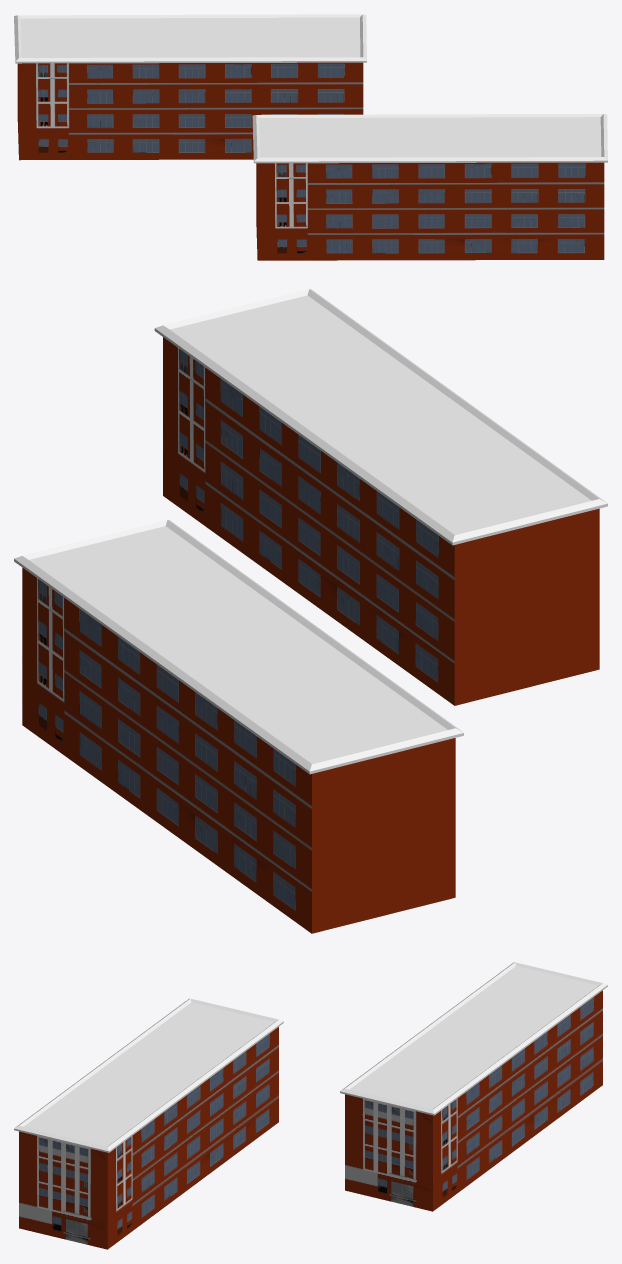
File: cunweihui.gltf
The picture shows the model from 3 angles, top to bottom: view 1: azimuth 30°, elevation 25°; view 2: azimuth 150°, elevation 25°; view 3: azimuth 270°, elevation 25°; orthographic projection. The views are drawn at different scales.
Visible parts, largest first — view 1: Line3117667, Line3117666; view 2: Line3117667, Line3117666; view 3: Line3117667, Line3117666.
Part boxes in pixels (x1,y1,x2,y2): Line3117667: [252, 113, 607, 260]; Line3117666: [14, 14, 366, 160]; Line3117667: [154, 289, 607, 705]; Line3117666: [14, 520, 463, 933]; Line3117667: [14, 998, 283, 1249]; Line3117666: [340, 962, 607, 1211].
Size of the model in its own units: 532 by 134 by 704.
10 materials, 10 textured.
